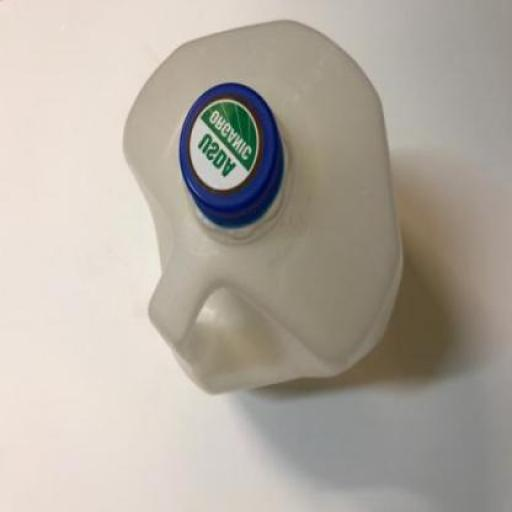plastic: (122, 22, 402, 396), (178, 84, 284, 231)
